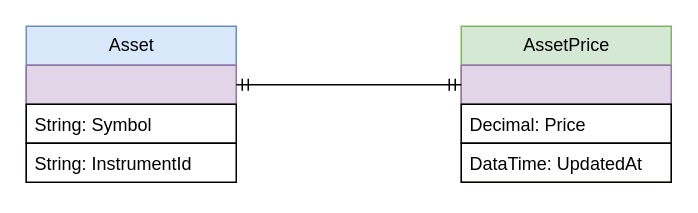
This 698x213 diagram has some shape labels left out. Here are the shapes that lost their labels. From the top down, the centre of each, then its label:
At point 130,84: "Guid(PK): Id".
At point 565,84: "Guid(PK, FK): AssetId".
